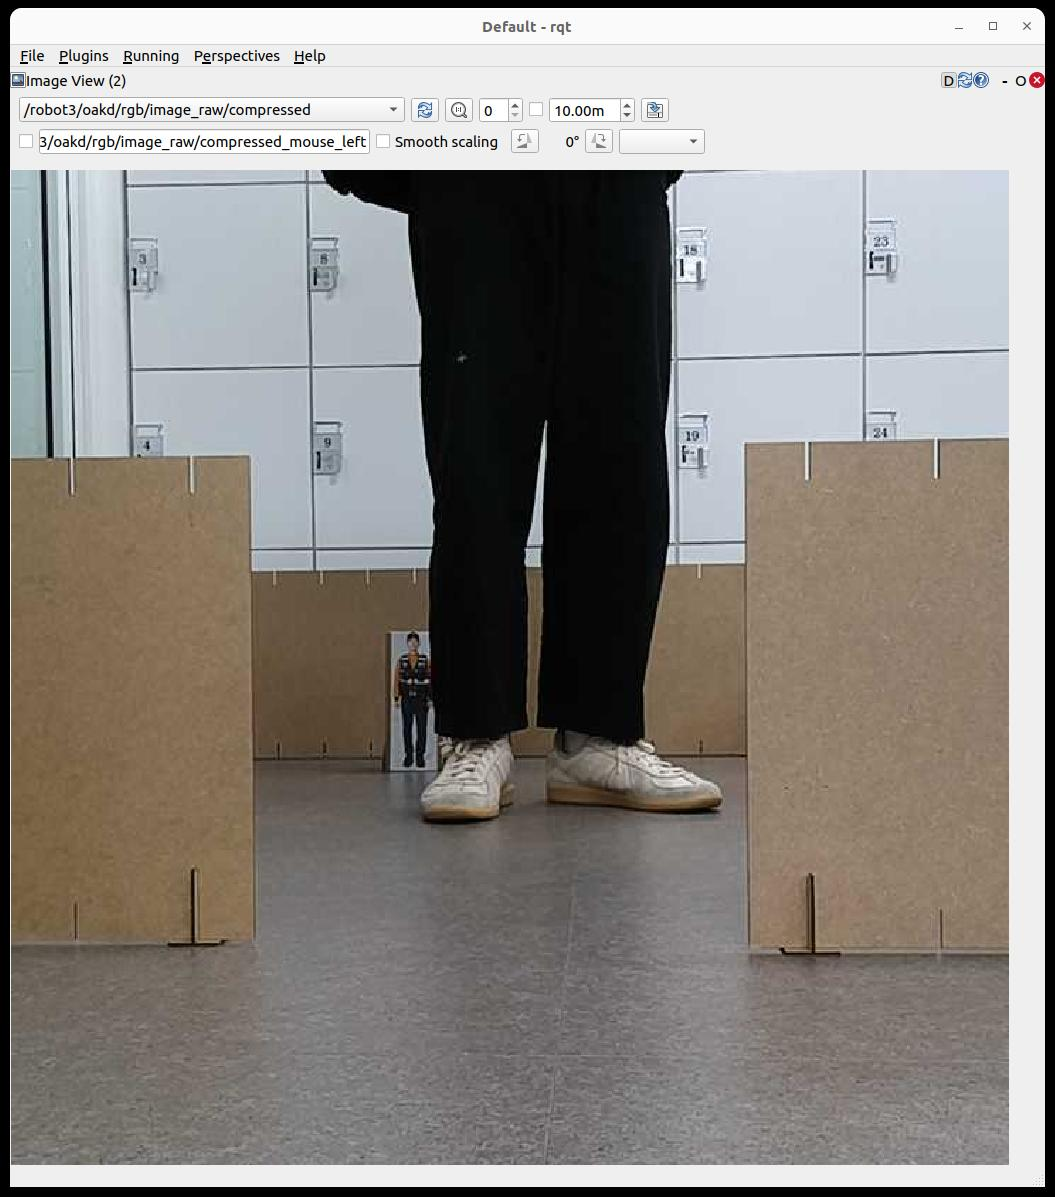Responder: (396, 647, 430, 759)
